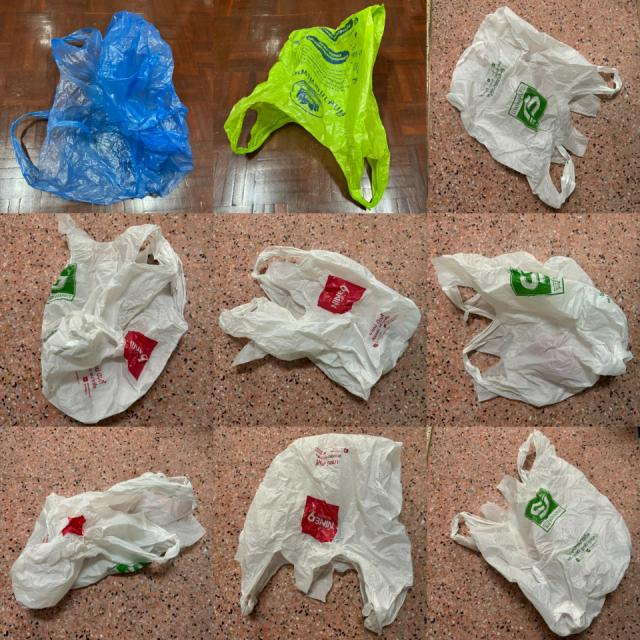Single-layer Plastic: (451, 430, 631, 636), (10, 11, 194, 205), (446, 6, 621, 209), (236, 434, 412, 633), (225, 5, 390, 209), (431, 251, 632, 406), (219, 246, 421, 399), (41, 215, 188, 424), (10, 472, 205, 609)
